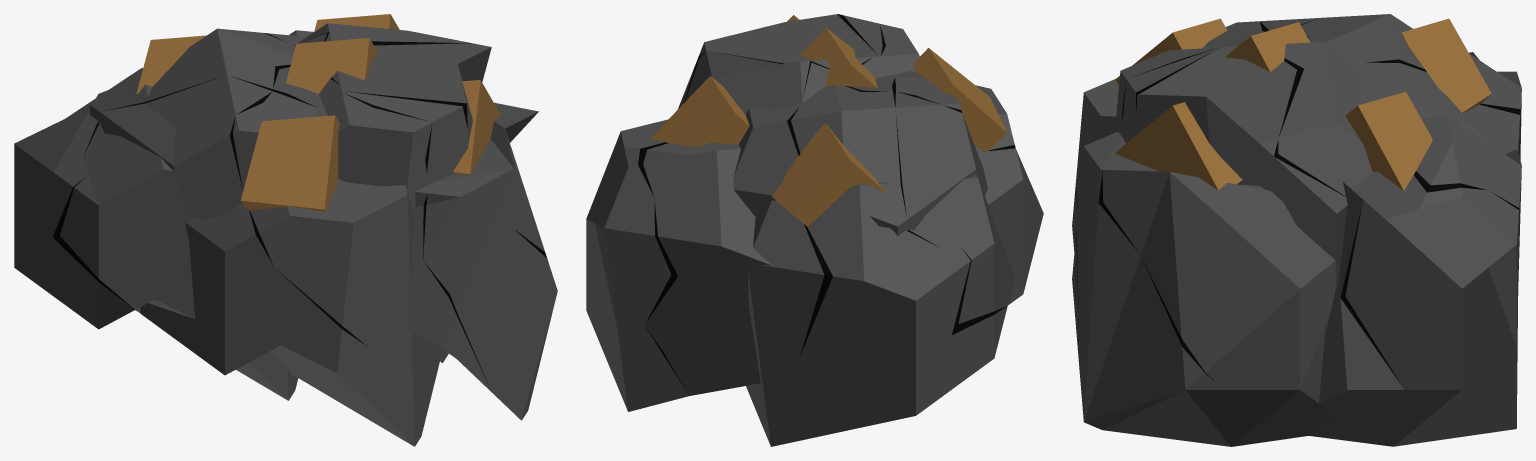
The model's file is WorkingStoneWithOre.fbx.
3 renders of one model, left to right at view 1: azimuth 30°, elevation 25°; view 2: azimuth 150°, elevation 25°; view 3: azimuth 270°, elevation 25°, orthographic. The views are drawn at different scales.
Parts seen in each view (by area): view 1: MainCube, Ore.002, Ore.003, Ore.004, Ore.001, Cube.002, Cube.003, Ore, Cube.004; view 2: MainCube, Ore.001, Ore, Ore.002, Ore.003, Cube.004, Cube.002, Cube.001; view 3: MainCube, Ore.004, Ore, Ore.001, Ore.003, Ore.002, Cube.003, Cube.002, Cube.004, Cube.001.
Boxes of the visible parts, box(x1,y1,x2,y2) form: MainCube: box(14, 23, 557, 446); Ore.002: box(240, 115, 339, 211); Ore.003: box(286, 38, 377, 93); Ore.004: box(453, 80, 500, 174); Ore.001: box(136, 35, 206, 93); Cube.002: box(53, 76, 547, 308); Cube.003: box(229, 41, 470, 346); Ore: box(314, 14, 399, 31); Cube.004: box(264, 32, 488, 385); MainCube: box(586, 14, 1043, 446); Ore.001: box(771, 123, 886, 226); Ore: box(650, 76, 749, 146); Ore.002: box(914, 48, 1007, 152); Ore.003: box(801, 27, 877, 88); Cube.004: box(787, 24, 885, 356); Cube.002: box(837, 14, 1006, 334); Cube.001: box(638, 142, 685, 390); MainCube: box(1072, 14, 1521, 446); Ore.004: box(1115, 102, 1242, 190); Ore: box(1345, 91, 1432, 190); Ore.001: box(1401, 18, 1491, 113); Ore.003: box(1225, 22, 1310, 71); Ore.002: box(1115, 18, 1227, 84); Cube.003: box(1075, 21, 1402, 386); Cube.002: box(1098, 19, 1315, 385); Cube.004: box(1076, 49, 1520, 361); Cube.001: box(1414, 171, 1519, 281).
Bounding box in the file's own units: 335 × 287 × 332.
